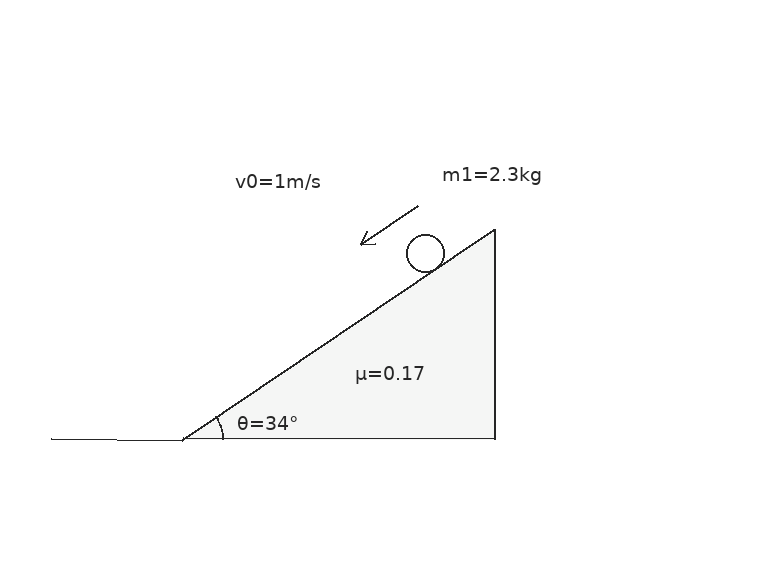ball: (404, 232, 446, 274)
ramp: (181, 227, 496, 441)
